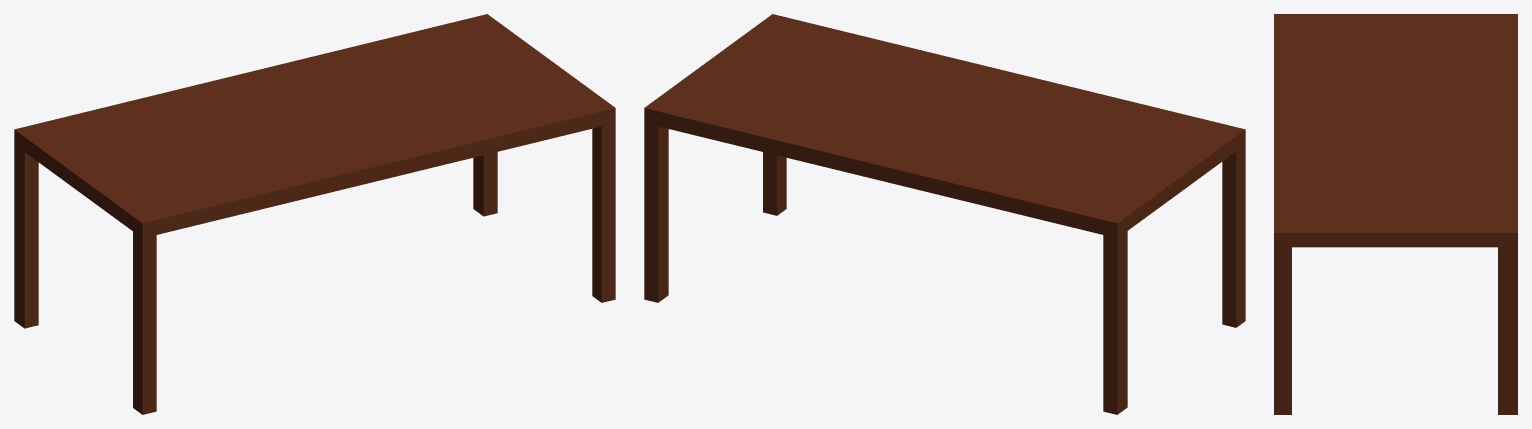
File: Desk.fbx
3 renders of one model, left to right at view 1: azimuth 30°, elevation 25°; view 2: azimuth 150°, elevation 25°; view 3: azimuth 270°, elevation 25°, orthographic. The views are drawn at different scales.
Visible parts, largest first — view 1: Desk; view 2: Desk; view 3: Desk.
Part boxes in pixels (x1,y1,x2,y2): Desk: [14, 14, 615, 414]; Desk: [644, 14, 1245, 414]; Desk: [1274, 14, 1517, 414].
Bounding box in the file's own units: 3296 × 1275 × 1549.
